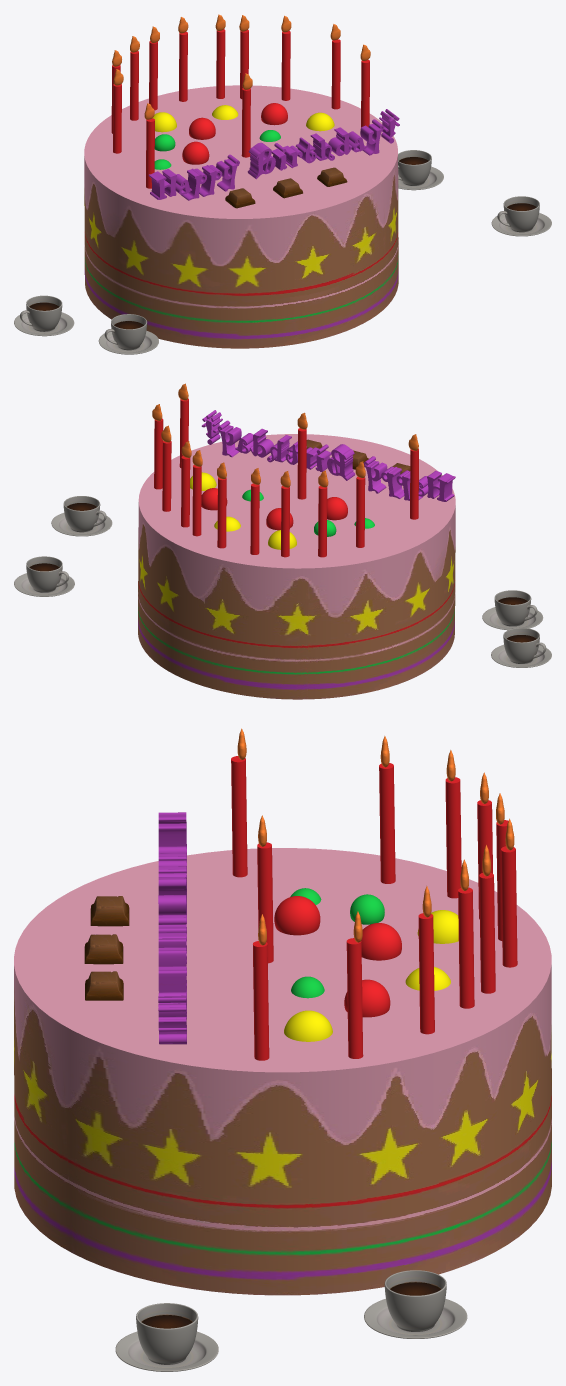
The model's file is cake.gltf.
3 views of the same model, one above another, from view 1: azimuth 30°, elevation 25°; view 2: azimuth 150°, elevation 25°; view 3: azimuth 270°, elevation 25° (orthographic). The views are drawn at different scales.
Visible parts, largest first — view 1: node_id64, node_id108, node_id118, node_id128, node_id123, node_id113, node_id30, node_id80, node_id78, node_id88, node_id90, node_id42 (+10 smaller); view 2: node_id64, node_id108, node_id113, node_id123, node_id118, node_id128, node_id86, node_id30, node_id88, node_id78, node_id82, node_id34 (+7 smaller); view 3: node_id64, node_id108, node_id113, node_id123, node_id40, node_id78, node_id76, node_id88, node_id30, node_id42, node_id80, node_id50 (+12 smaller).
Boxes of the visible parts, <box> form: node_id64: <box>84,85,398,348</box>; node_id108: <box>148,109,399,200</box>; node_id118: <box>14,295,74,336</box>; node_id128: <box>98,314,158,354</box>; node_id123: <box>491,196,551,236</box>; node_id113: <box>398,150,443,190</box>; node_id30: <box>281,31,290,100</box>; node_id80: <box>331,39,340,109</box>; node_id78: <box>216,29,225,98</box>; node_id88: <box>179,31,187,101</box>; node_id90: <box>130,51,138,120</box>; node_id42: <box>113,84,121,153</box>; node_id64: <box>138,434,455,699</box>; node_id108: <box>201,410,455,501</box>; node_id113: <box>14,556,74,596</box>; node_id123: <box>51,496,112,536</box>; node_id118: <box>491,628,551,667</box>; node_id128: <box>482,590,543,630</box>; node_id86: <box>250,483,259,554</box>; node_id30: <box>162,441,171,511</box>; node_id88: <box>217,477,226,548</box>; node_id78: <box>192,465,201,536</box>; node_id82: <box>297,428,306,499</box>; node_id34: <box>318,486,327,557</box>; node_id64: <box>14,848,551,1295</box>; node_id108: <box>158,812,186,1044</box>; node_id113: <box>364,1270,467,1338</box>; node_id123: <box>115,1303,218,1371</box>; node_id40: <box>231,756,247,877</box>; node_id78: <box>479,872,495,993</box>; node_id76: <box>458,887,474,1008</box>; node_id88: <box>501,846,517,967</box>; node_id30: <box>418,913,434,1034</box>; node_id42: <box>379,763,395,883</box>; node_id80: <box>346,938,363,1058</box>; node_id50: <box>253,941,269,1060</box>.
Bounding box in the file's own units: 0.00512 × 0.00208 × 0.00274.
46 materials, 46 textured.
